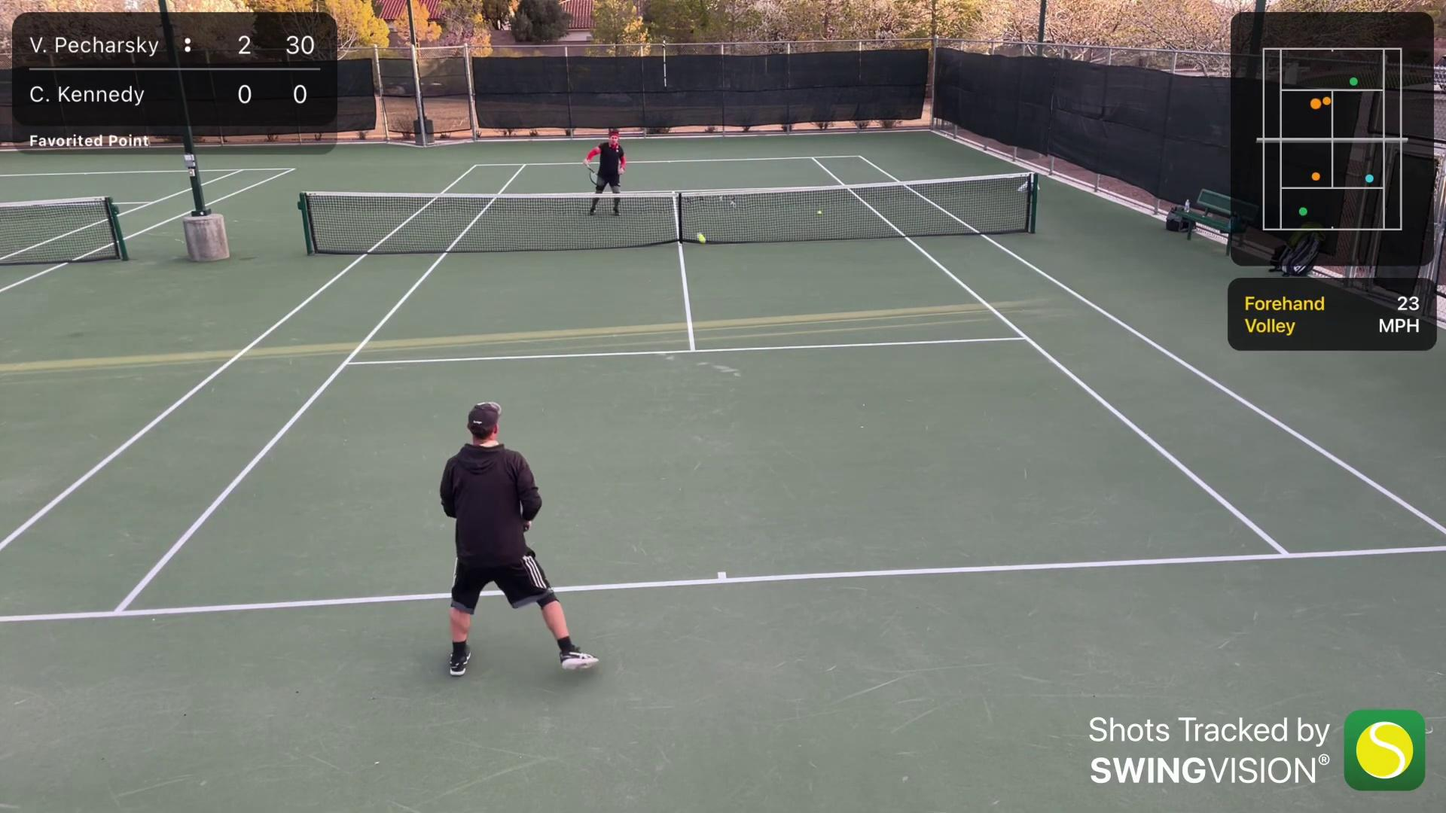ball: (695, 230, 709, 245), (816, 209, 824, 217)
